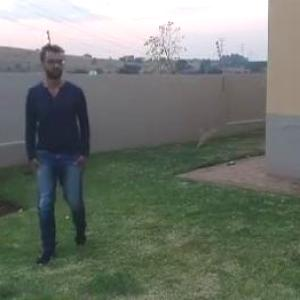follow: (38, 38, 98, 251)
